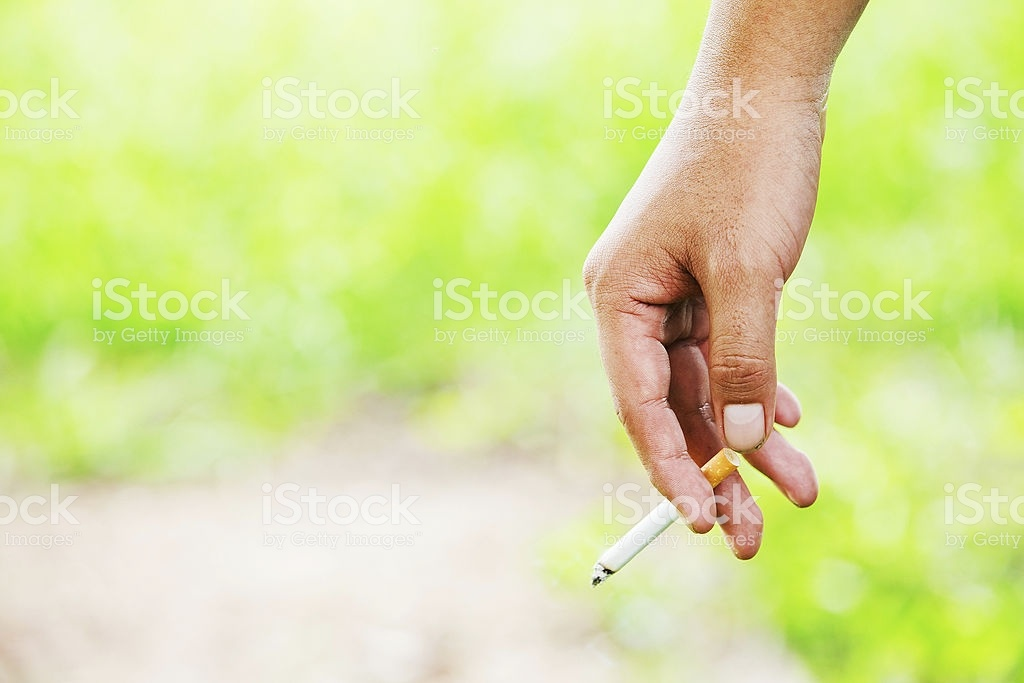sigaretta: (581, 446, 737, 586)
